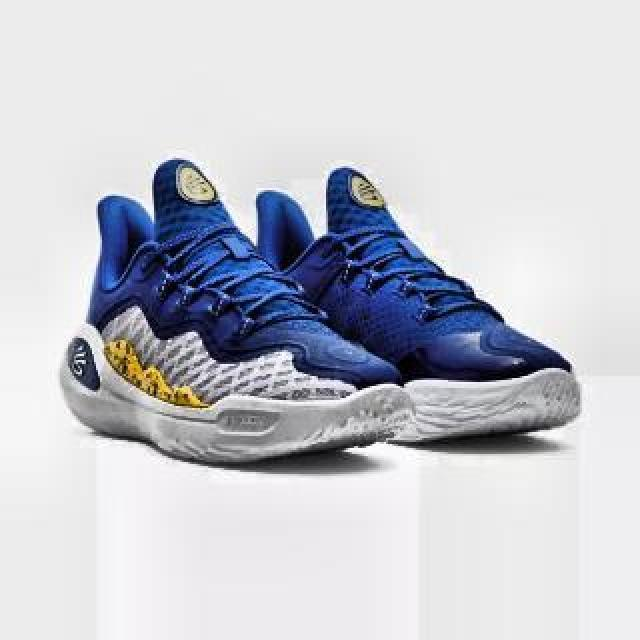shoes: (59, 156, 405, 462), (221, 165, 583, 443)
